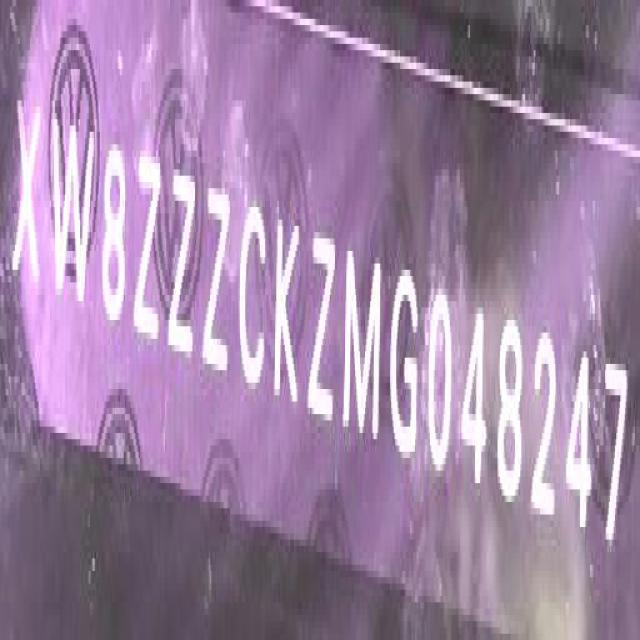0: (425, 276, 454, 478)
2: (530, 329, 559, 526)
4: (459, 294, 487, 490), (568, 348, 594, 537)
7: (603, 356, 631, 551)
8: (498, 310, 526, 507), (102, 136, 128, 332)
C: (238, 195, 270, 398)
G: (391, 256, 423, 466)
K: (274, 212, 302, 419)
M: (345, 242, 383, 451)
W: (50, 76, 95, 315)
X: (14, 86, 43, 299)
Z: (308, 223, 337, 437), (170, 170, 199, 369), (136, 150, 164, 348), (205, 181, 232, 386)
